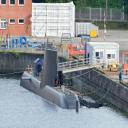submarine: (19, 49, 84, 109)
